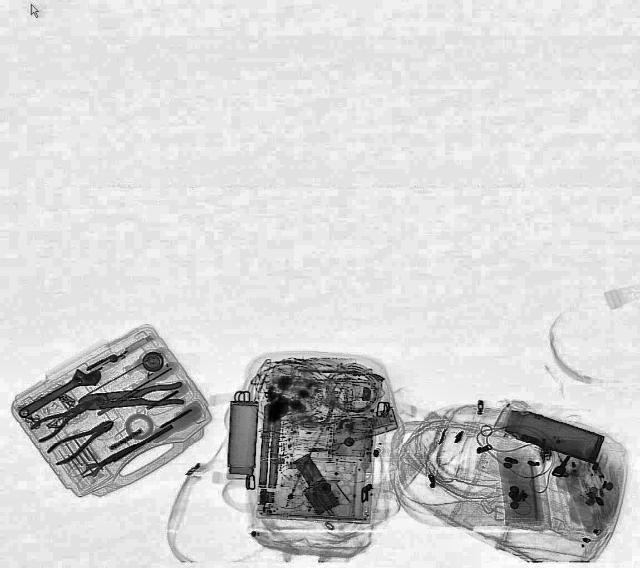Knife: (74, 437, 142, 483)
Pliers: (24, 388, 110, 444), (42, 411, 121, 467), (76, 380, 184, 414)
Wrench: (12, 360, 106, 424)
